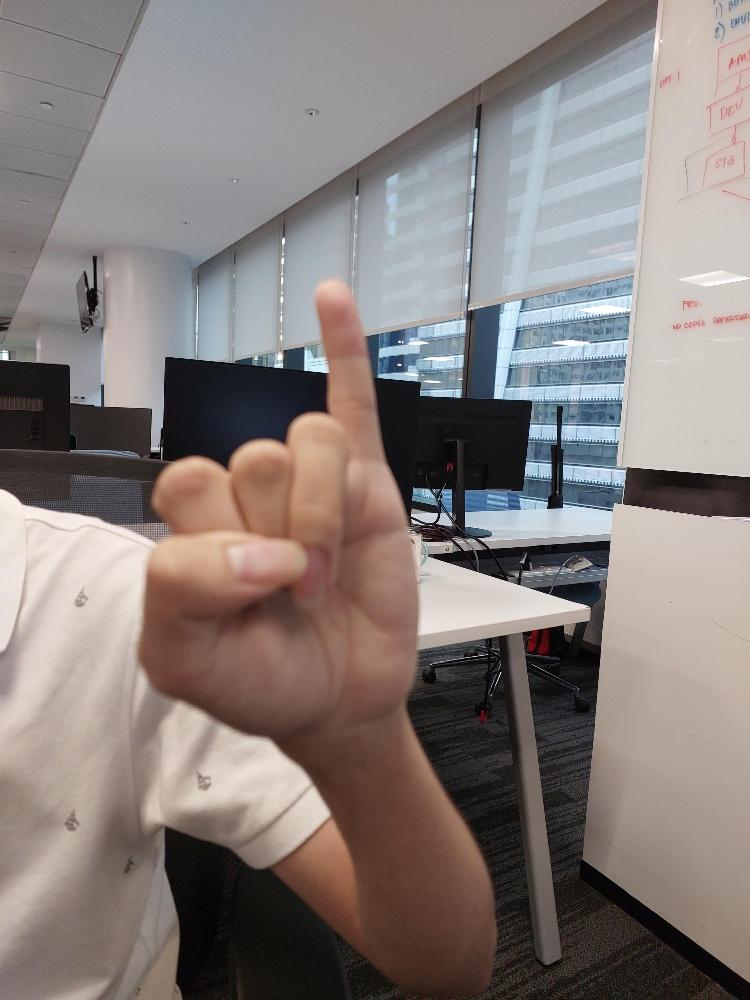i: (134, 271, 421, 744)
